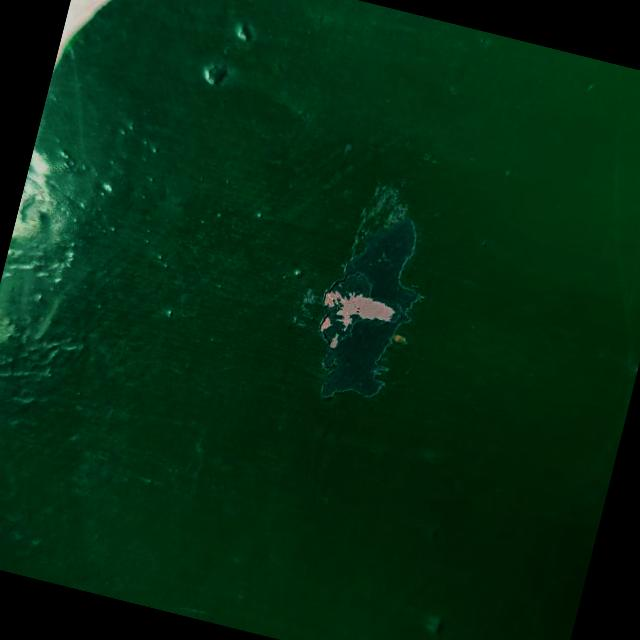paint-off: (252, 146, 476, 448)
